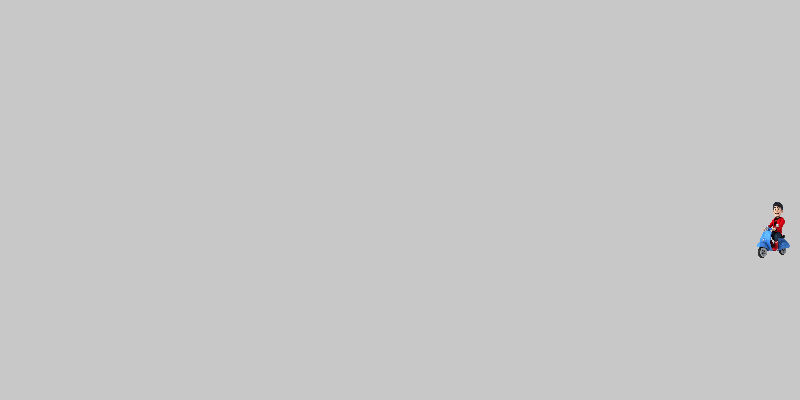no_helmet: (745, 200, 800, 260)
